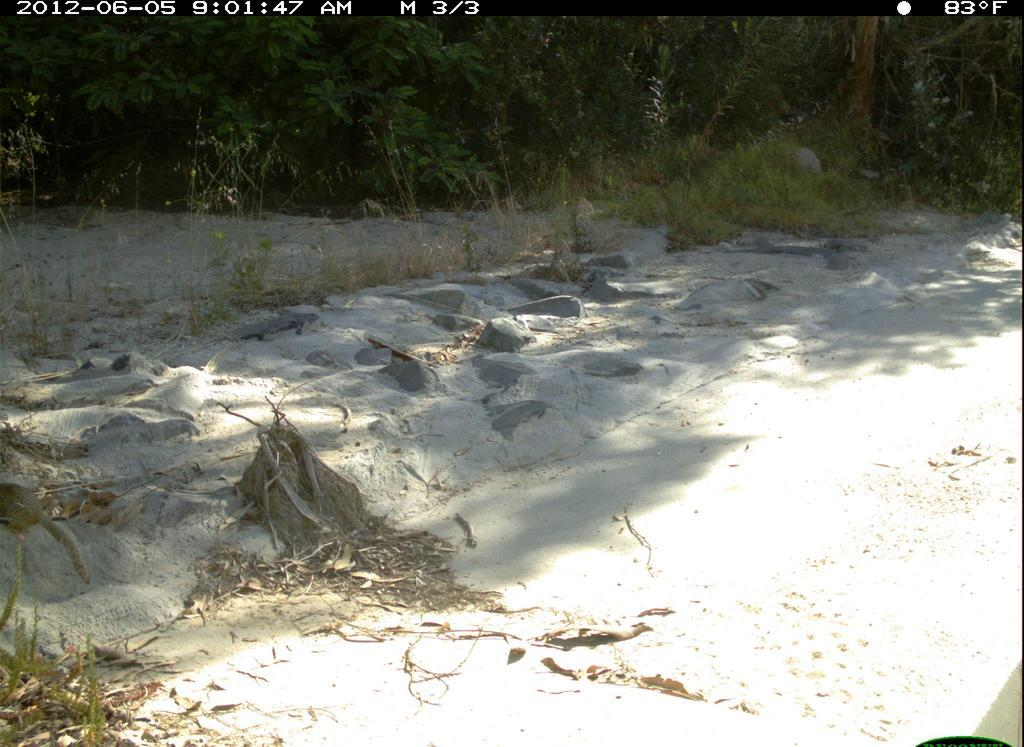squirrel: (3, 466, 98, 594)
